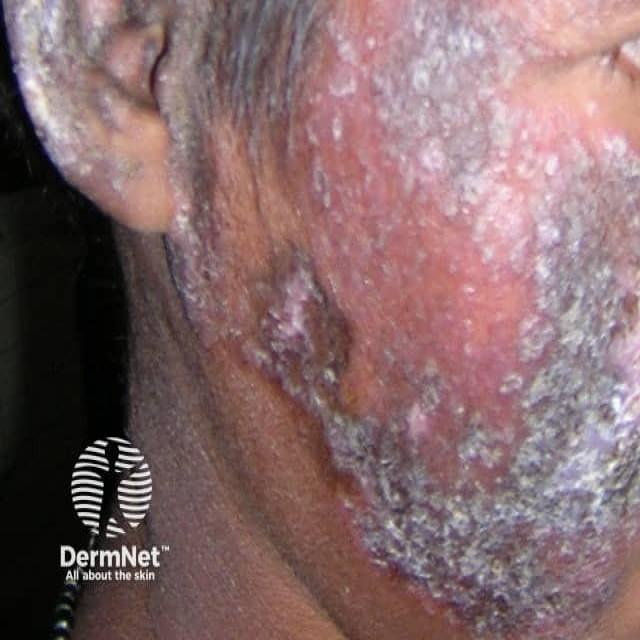lupus-detected: (275, 46, 640, 626), (10, 16, 237, 244)
